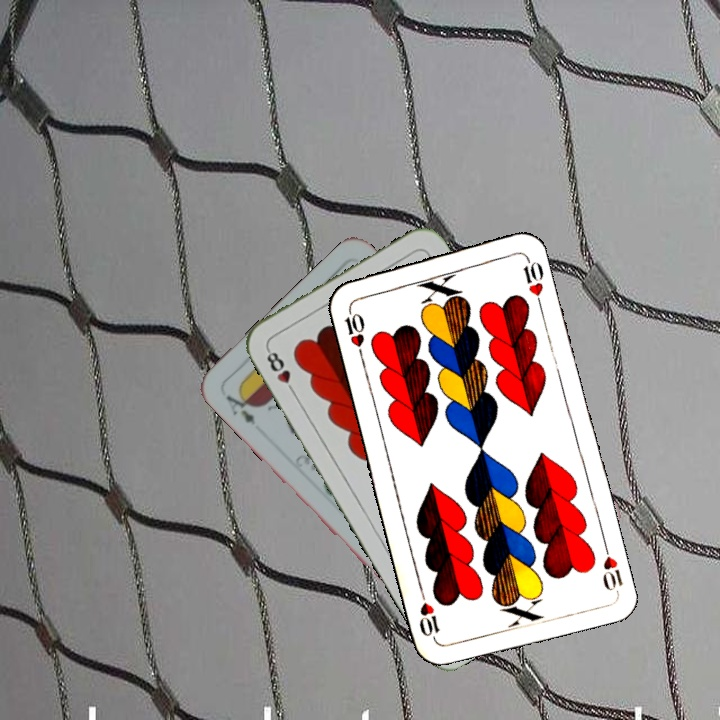EA: (222, 390, 258, 428)
H10: (340, 301, 367, 360), (598, 536, 625, 594)
H8: (262, 344, 299, 398)
